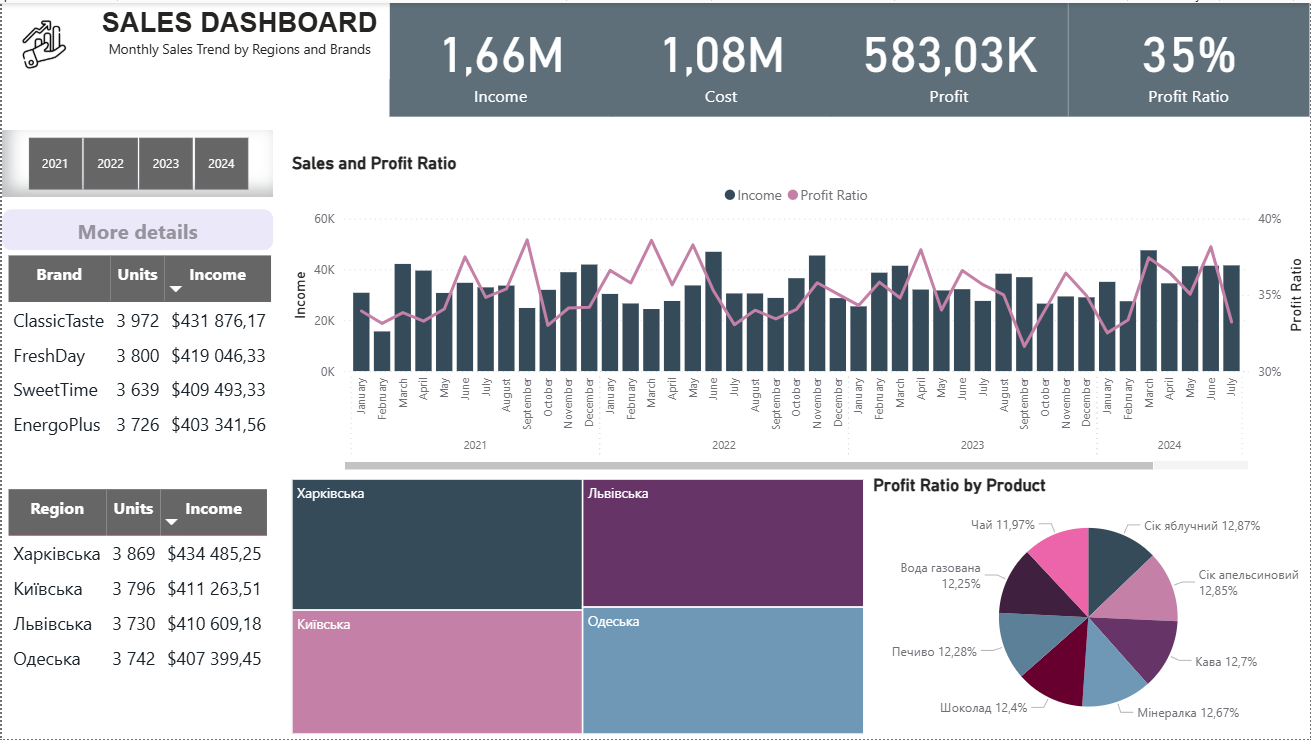

The dashboard page shown, as its layout file describes it:
{"tool":"powerbi","page":{"name":"Sales","canvas":[1280,720],"ordinal":0},"visuals":[{"type":"group","id":"g1","title":"Group 1","box":[378.7,0,900.5,111.1],"z":0},{"type":"lineStackedColumnComboChart","title":"Sales and Profit Ratio","fields":{"Y2":["Measure.Profit Ratio"],"Y":["Measure.Income"],"Category":["Calendar.Date.Variation.Date Hierarchy.Year","Calendar.Date.Variation.Date Hierarchy.Month"]},"box":[278.8,146.7,1000.3,314.3],"z":1000},{"type":"card","fields":{"Values":["Measure.Income"]},"box":[378.7,0,218.2,111.1],"z":1503,"group":"g1"},{"type":"card","fields":{"Values":["Sum(Sales.Собівартість)"]},"box":[596.9,0,214.1,111.1],"z":1753,"group":"g1"},{"type":"card","fields":{"Values":["Measure.Profit Ratio"]},"box":[1043.2,0,236,111.1],"z":1878,"group":"g1"},{"type":"card","fields":{"Values":["Measure.Profit"]},"box":[810.9,0,231.9,111.1],"z":1940,"group":"g1"},{"type":"image","box":[0,0,85.1,74.1],"z":2000,"group":"g2"},{"type":"tableEx","fields":{"Values":["Brand.Бренд","Sum(Sales.Кількість)","Measure.Income"]},"box":[0,241.5,278.6,196.2],"z":2000},{"type":"textbox","box":[85.1,0,293.7,74.1],"z":3000,"group":"g2"},{"type":"tableEx","fields":{"Values":["Sales.Регіон","Sum(Sales.Кількість)","Measure.Income"]},"box":[0,470.7,278.6,194.9],"z":3000},{"type":"treemap","fields":{"Values":["Measure.Income"],"Group":["Sales.Регіон"]},"box":[278.6,461.1,569.5,259.3],"z":4000},{"type":"pieChart","title":"Profit Ratio by Product","fields":{"Y":["Measure.Profit Ratio"],"Category":["Product.Товар"]},"box":[848,461.1,430.9,259.3],"z":5000},{"type":"slicer","fields":{"Values":["Calendar.Date.Variation.Date Hierarchy.Year"]},"box":[0,124.9,264.8,64.5],"z":6000},{"type":"actionButton","box":[0,201.8,265.4,40.4],"z":7000},{"type":"group","id":"g2","title":"Group 2","box":[0,0,378.7,74.1],"z":8000}]}

Visuals, with their boxes in screenshot pixels (x1, y1, x2, y2), scaled from the page's 1280x720 canvas onto the 1311x740 screenshot:
"Group 1" group: 388:0:1310:114
"Sales and Profit Ratio" lineStackedColumnComboChart: 286:151:1310:474
card - Measure.Income: 388:0:611:114
card - Sum(Sales.Собівартість): 611:0:831:114
card - Measure.Profit Ratio: 1068:0:1310:114
card - Measure.Profit: 831:0:1068:114
image: 0:0:87:76
tableEx - Brand.Бренд x Sum(Sales.Кількість): 0:248:285:450
textbox: 87:0:388:76
tableEx - Sales.Регіон x Sum(Sales.Кількість): 0:484:285:684
treemap - Measure.Income x Sales.Регіон: 285:474:869:739
"Profit Ratio by Product" pieChart: 869:474:1310:739
slicer - Calendar.Date.Variation.Date Hierarchy.Year: 0:128:271:195
actionButton: 0:207:272:249
"Group 2" group: 0:0:388:76
